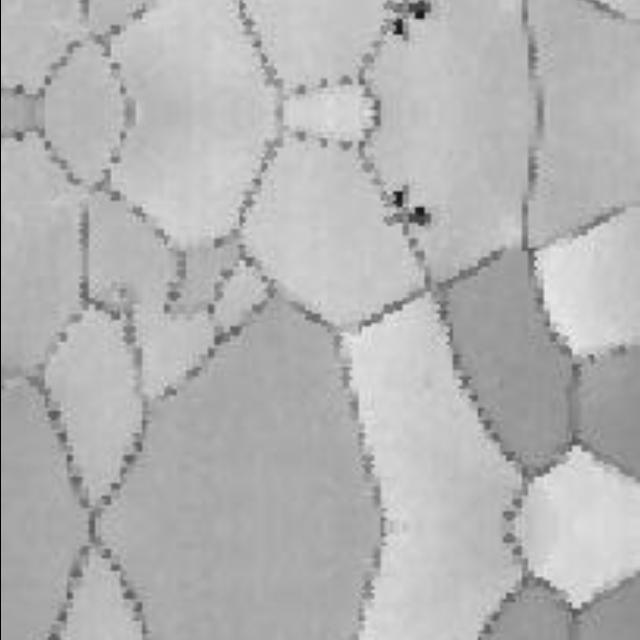good_void: (404, 207, 432, 227), (404, 1, 432, 20), (390, 189, 404, 209), (390, 19, 404, 38)
